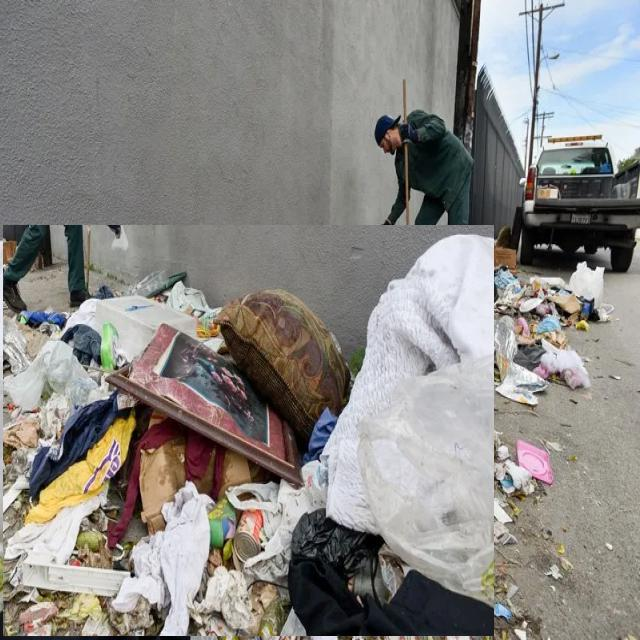dumping: (3, 225, 494, 638)
